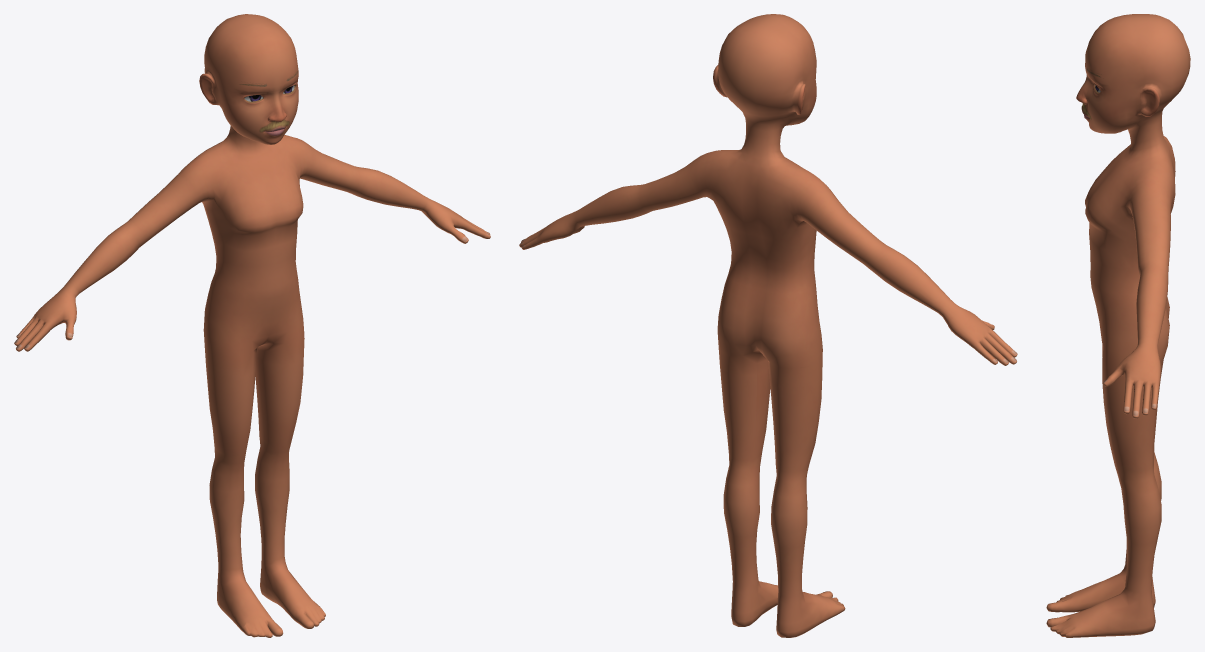
Rendered from frame_0031.glb.
3 renders of one model, left to right at view 1: azimuth 30°, elevation 25°; view 2: azimuth 150°, elevation 25°; view 3: azimuth 270°, elevation 25°, orthographic. The views are drawn at different scales.
Parts seen in each view (by area): view 1: frame_0031_head_geo; view 2: frame_0031_head_geo; view 3: frame_0031_head_geo.
Part boxes in pixels (box(x1,y1,x2,y2)): frame_0031_head_geo: box(14, 14, 490, 637); frame_0031_head_geo: box(519, 14, 1017, 637); frame_0031_head_geo: box(1046, 14, 1190, 637).
Bounding box in the file's own units: 1.28 × 1.5 × 0.3253.
3 materials, 3 textured.
